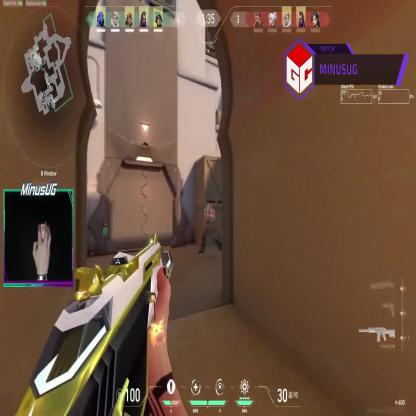enemy: (197, 200, 222, 253)
enemy_head: (207, 202, 213, 212)
